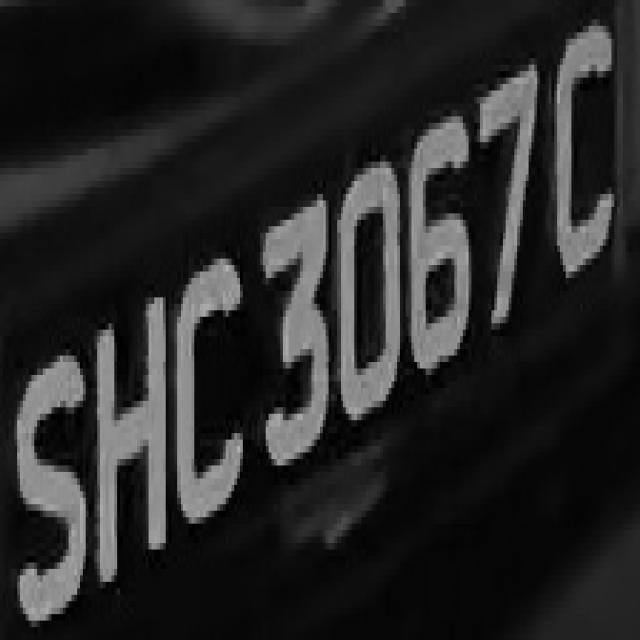0: (328, 149, 412, 433)
3: (254, 168, 334, 491)
6: (397, 97, 480, 388)
7: (471, 45, 540, 349)
C: (169, 226, 254, 537), (548, 19, 628, 284)
H: (83, 272, 168, 594)
S: (8, 336, 92, 640)
